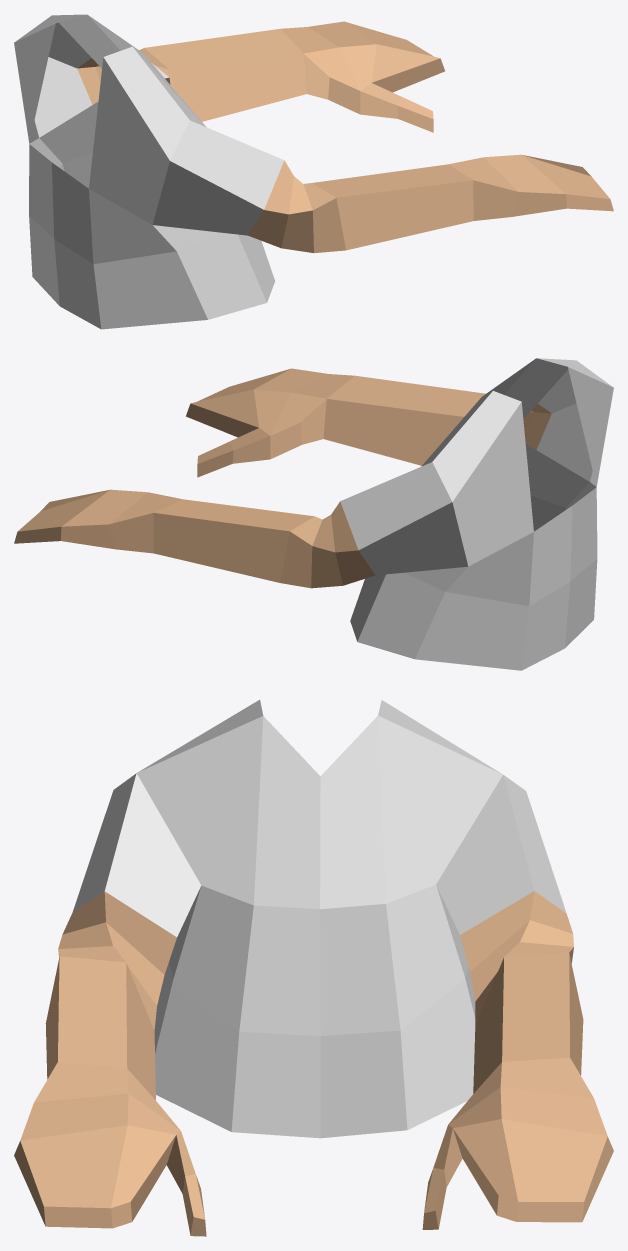
The model's file is adulto.fbx.
3 renders of one model, top to bottom at view 1: azimuth 30°, elevation 25°; view 2: azimuth 150°, elevation 25°; view 3: azimuth 270°, elevation 25°, orthographic. The views are drawn at different scales.
Visible parts, largest first — view 1: cuerpo.001; view 2: cuerpo.001; view 3: cuerpo.001.
Boxes of the visible parts, x1,y1,x2,y2 form: cuerpo.001: (14,14,613,329); cuerpo.001: (14,358,613,670); cuerpo.001: (14,699,613,1236).
Size of the model in its own units: 191 by 104 by 165.
